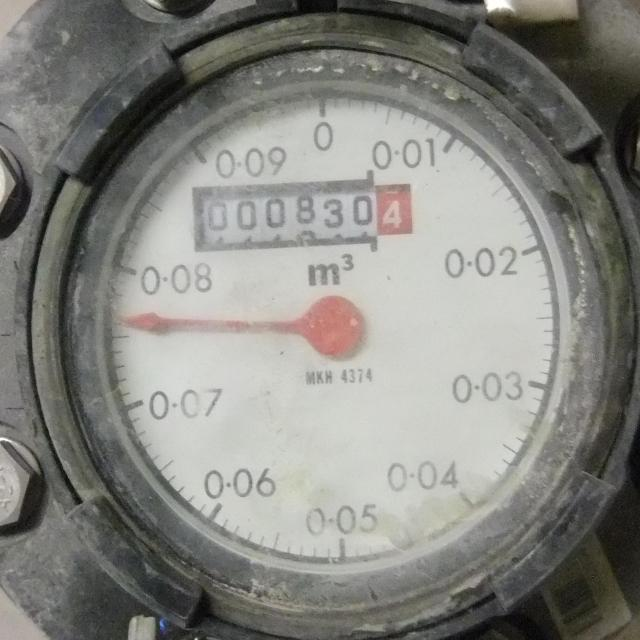gaz_meter: (76, 45, 572, 578)
indication: (191, 186, 411, 248)
